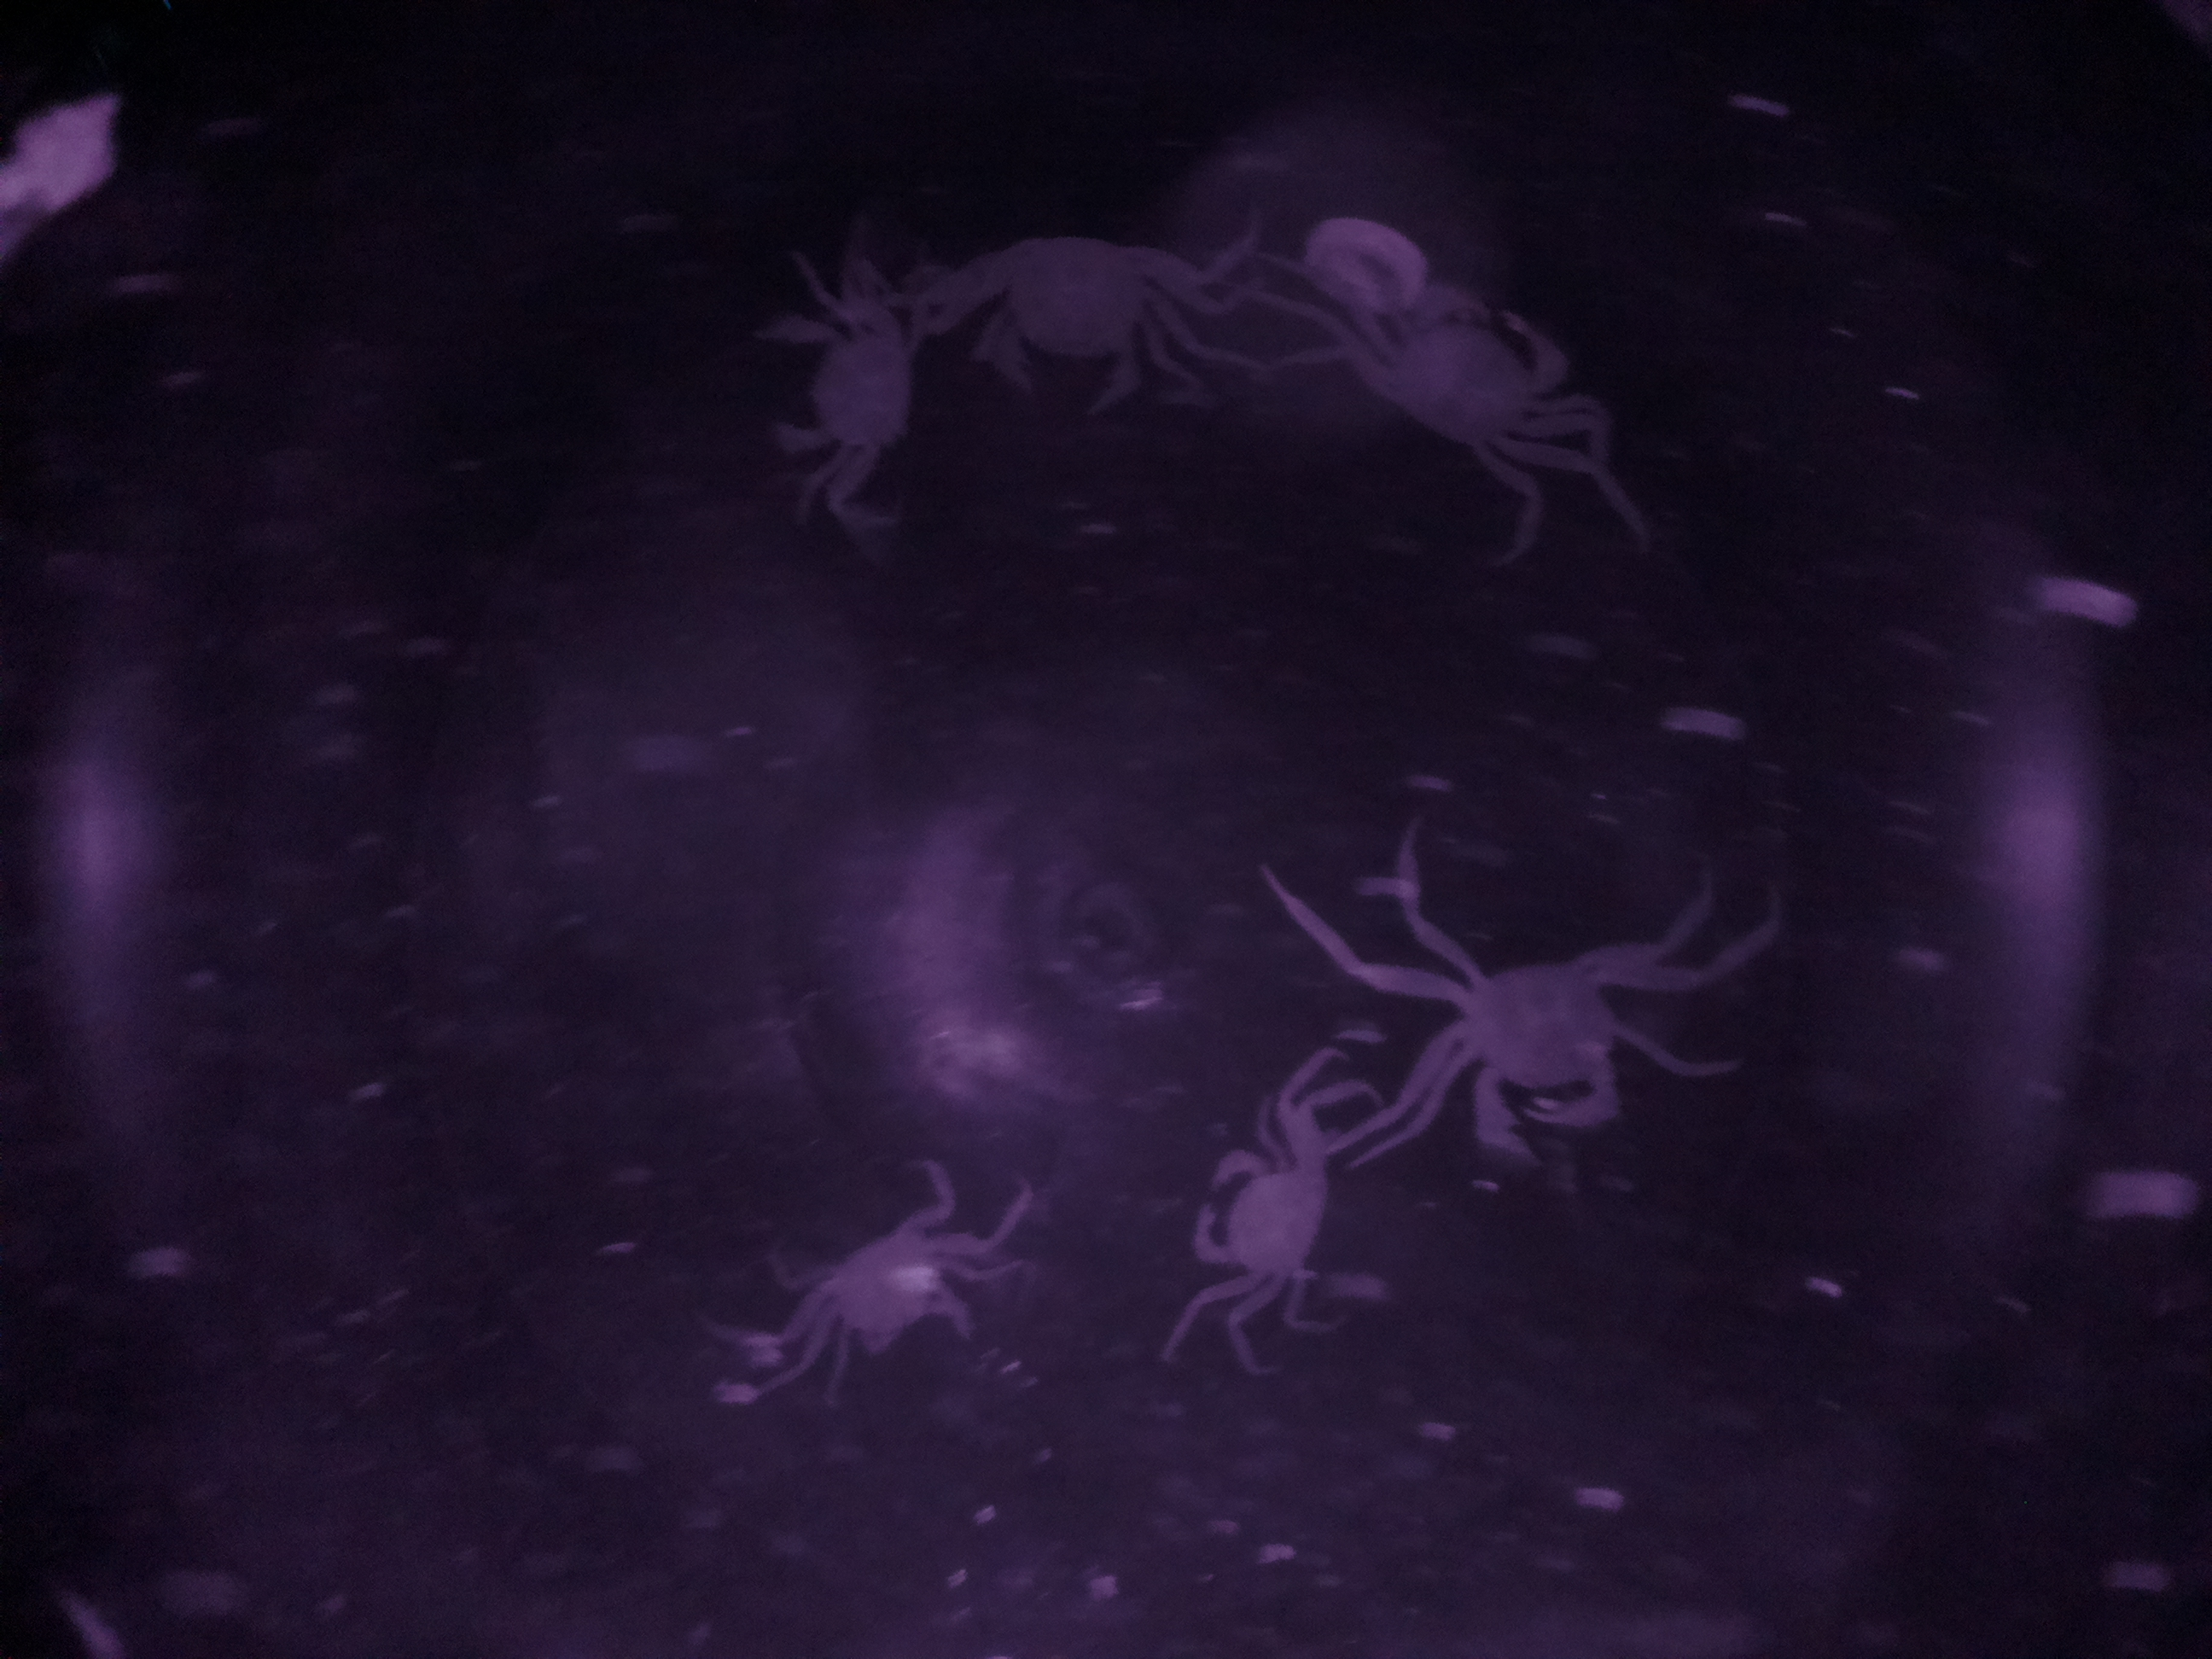Crab: (1400, 932, 1670, 1183), (1172, 1098, 1379, 1326)
